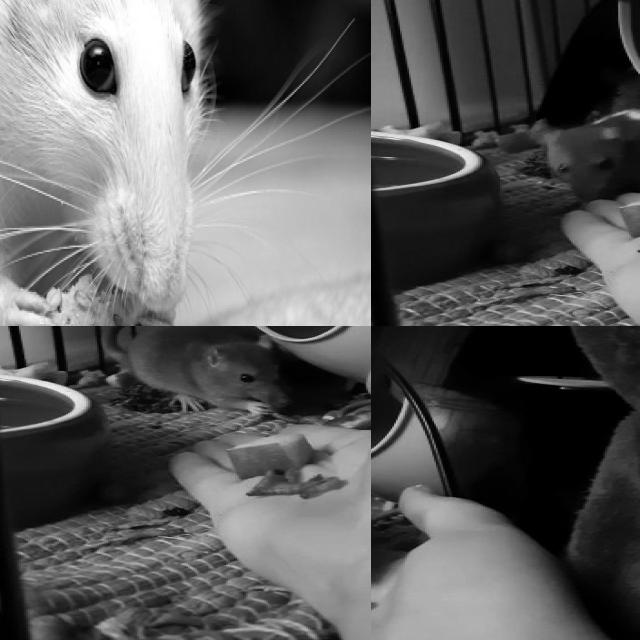rat: (0, 0, 242, 326), (130, 326, 295, 417), (525, 108, 640, 202)
